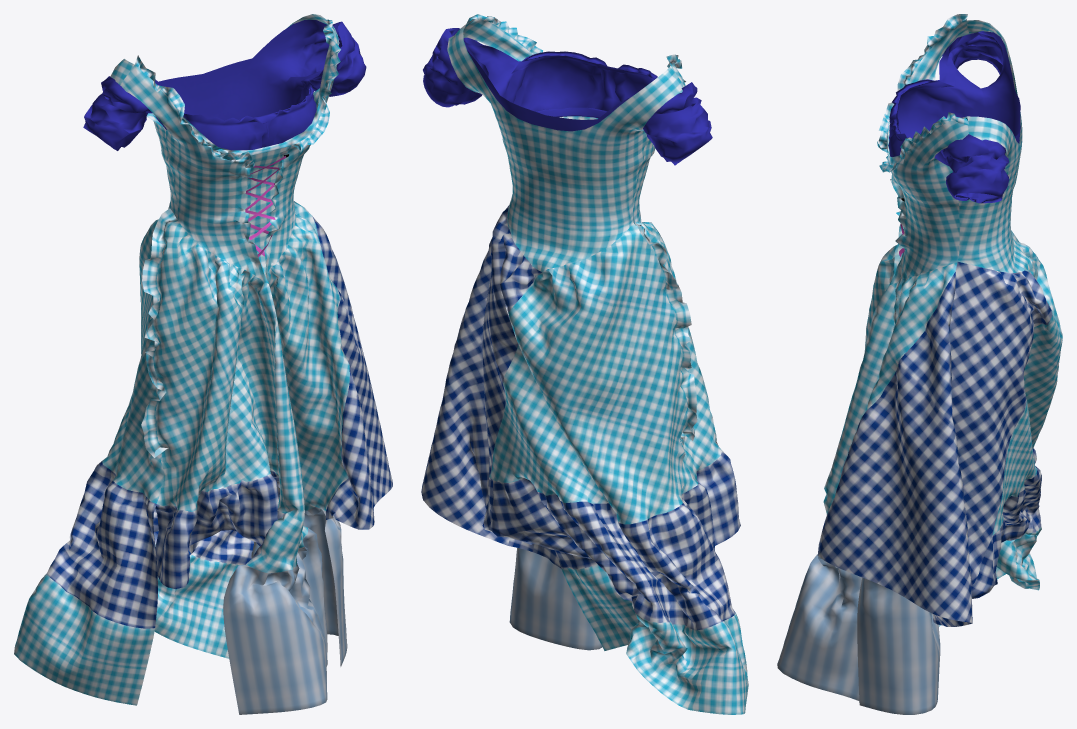
Rendered from asset.glb.
3 views of the same model, side by side, from view 1: azimuth 30°, elevation 25°; view 2: azimuth 150°, elevation 25°; view 3: azimuth 270°, elevation 25° (orthographic). The views are drawn at different scales.
Parts seen in each view (by area): view 1: Dirndl01; view 2: Dirndl01; view 3: Dirndl01.
Boxes of the visible parts, <box> form: Dirndl01: <box>14,14,392,714</box>; Dirndl01: <box>421,14,748,714</box>; Dirndl01: <box>777,14,1062,714</box>.
Bounding box in the file's own units: 7.27 × 12.84 × 5.2.
6 materials, 6 textured.
